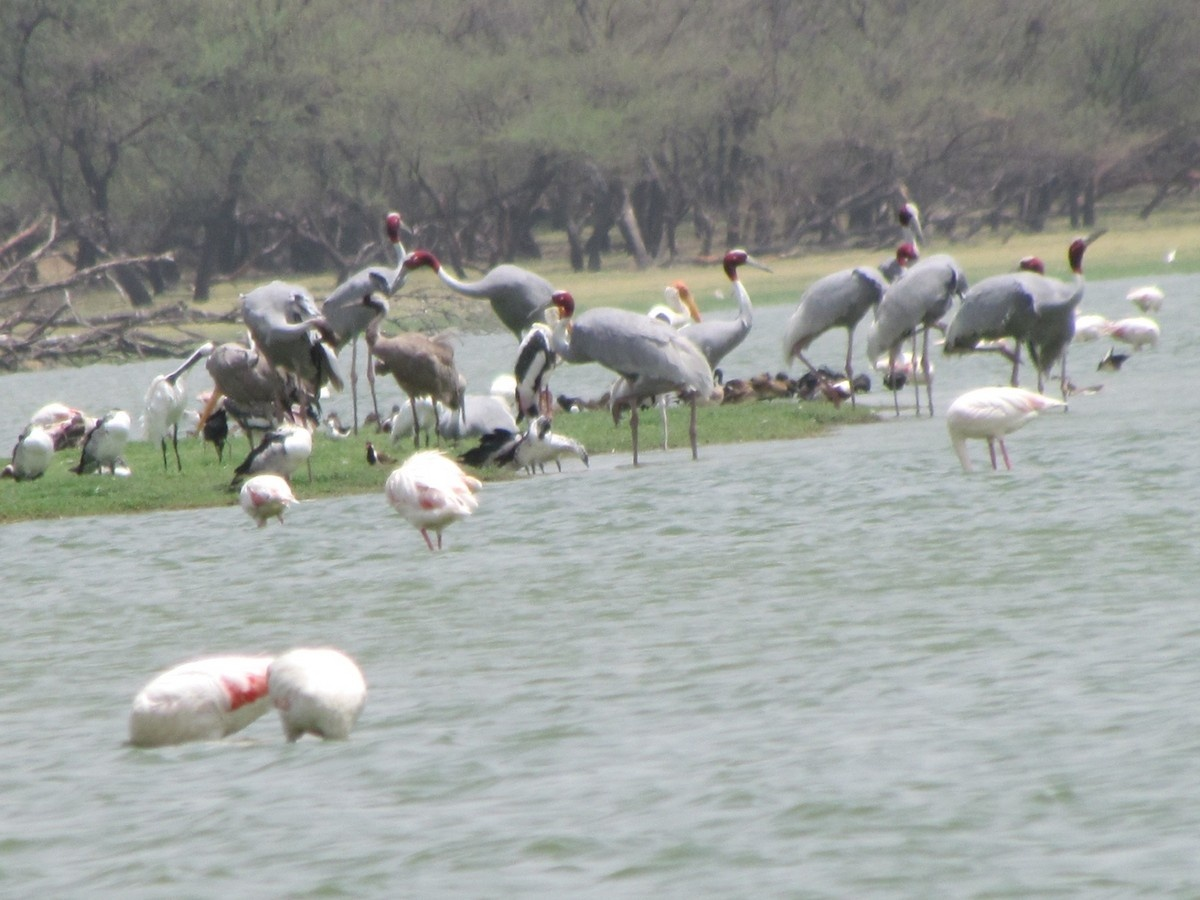crane: (526, 281, 721, 441), (780, 199, 923, 372), (960, 223, 1118, 372), (394, 245, 547, 324), (693, 245, 785, 359), (334, 209, 423, 319)
